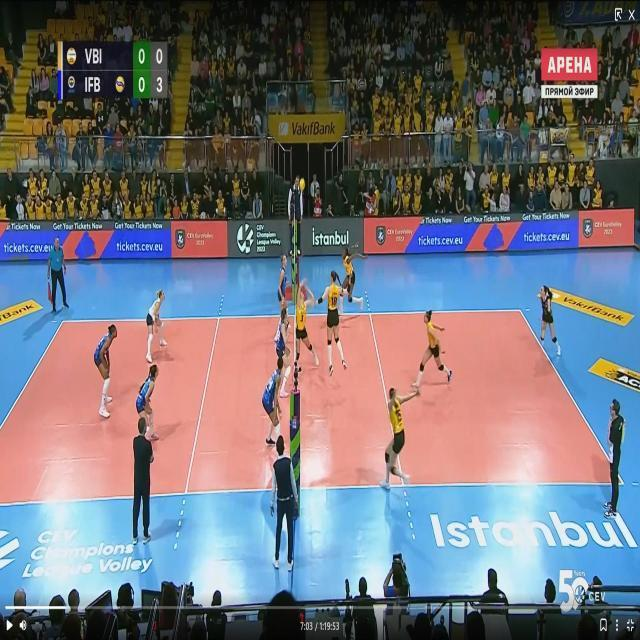volleyball: (300, 178, 306, 191)
